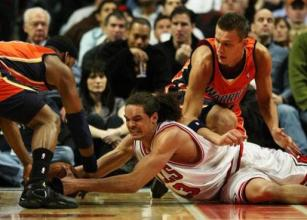10+: (1, 1, 306, 212)
down: (53, 87, 307, 207)
